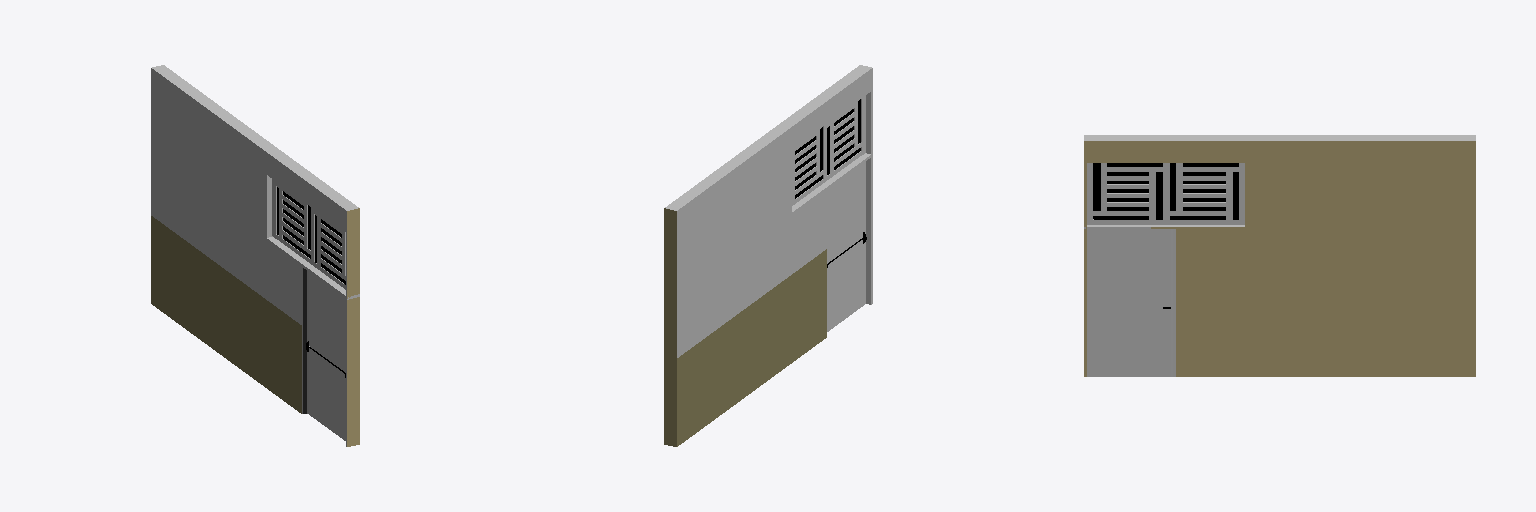
Rendered from bloque_lateral_2.obj.
The picture shows the model from 3 angles: view 1: azimuth 30°, elevation 25°; view 2: azimuth 150°, elevation 25°; view 3: azimuth 270°, elevation 25°; orthographic projection.
Visible parts, largest first — view 1: PISO1_Cube.016, PUERTA5_Cube.129, VENTANAS_EXTERIOR_Cube.034; view 2: PISO1_Cube.016, PUERTA5_Cube.129, VENTANAS_EXTERIOR_Cube.034; view 3: PISO1_Cube.016, PUERTA5_Cube.129, VENTANAS_EXTERIOR_Cube.034.
Boxes of the visible parts, x1,y1,x2,y2 form: PISO1_Cube.016: [151, 65, 359, 446]; PUERTA5_Cube.129: [302, 267, 345, 440]; VENTANAS_EXTERIOR_Cube.034: [272, 179, 345, 289]; PISO1_Cube.016: [664, 65, 872, 446]; PUERTA5_Cube.129: [827, 162, 866, 331]; VENTANAS_EXTERIOR_Cube.034: [792, 96, 865, 205]; PISO1_Cube.016: [1084, 135, 1475, 376]; PUERTA5_Cube.129: [1087, 229, 1175, 376]; VENTANAS_EXTERIOR_Cube.034: [1087, 163, 1244, 224].
Size of the model in its own units: 0.3572 by 6 by 9.02.